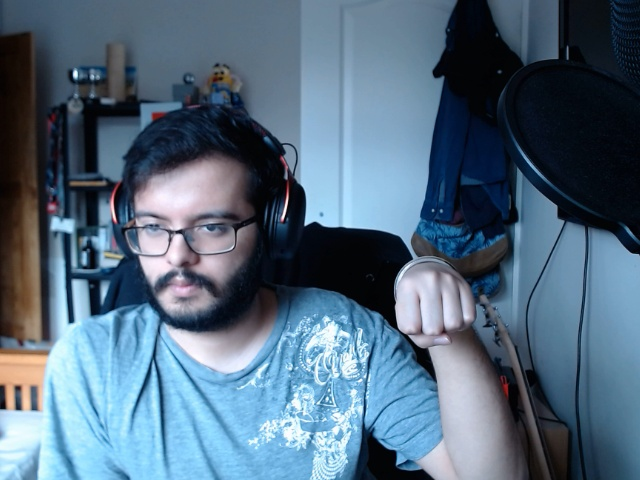Yes: (385, 260, 491, 347)
